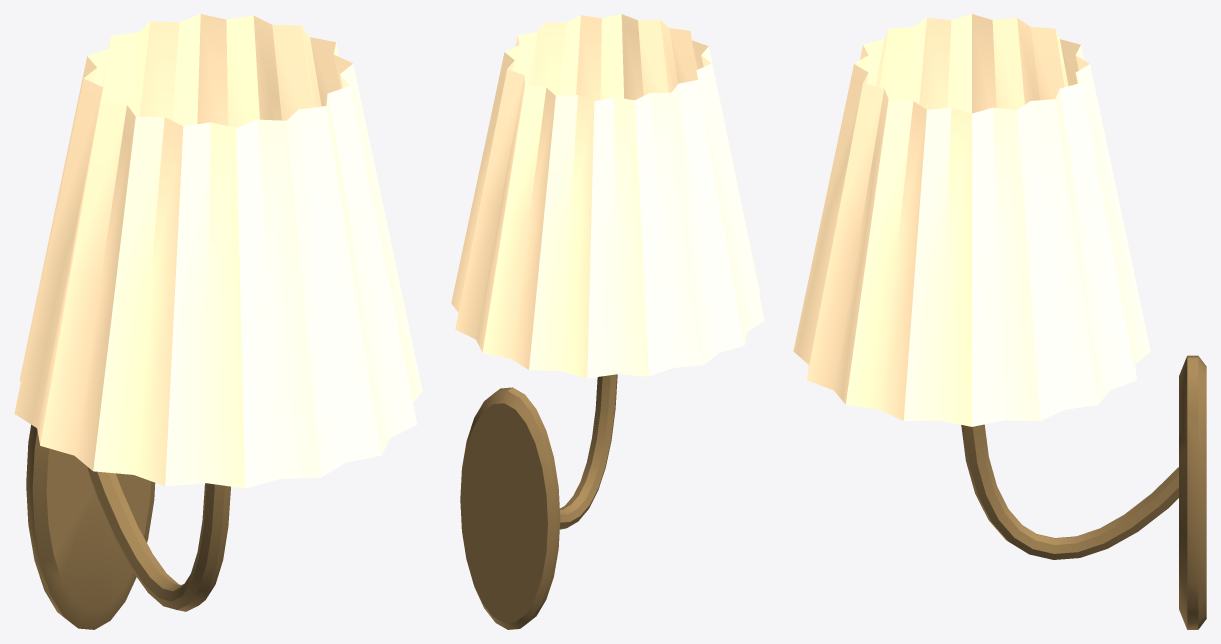
Rendered from sconce_brass.glb.
3 renders of one model, left to right at view 1: azimuth 30°, elevation 25°; view 2: azimuth 150°, elevation 25°; view 3: azimuth 270°, elevation 25°, orthographic. The views are drawn at different scales.
Visible parts, largest first — view 1: sconce_brass; view 2: sconce_brass; view 3: sconce_brass.
Part boxes in pixels (x1,y1,x2,y2): sconce_brass: (14, 14, 422, 629); sconce_brass: (451, 14, 764, 629); sconce_brass: (793, 14, 1206, 629).
Size of the model in its own units: 0.259 by 0.451 by 0.2995.
